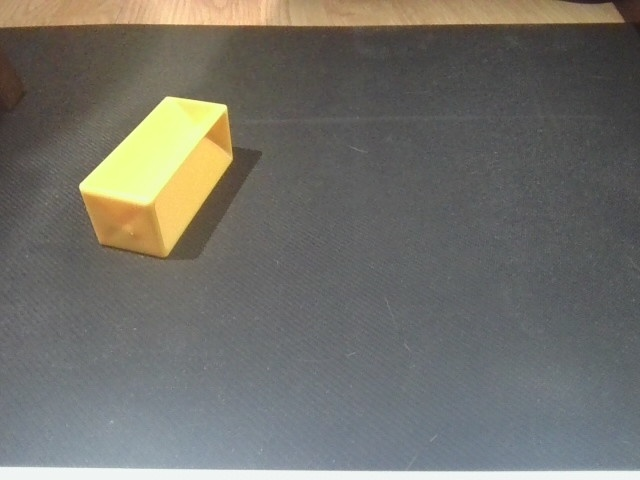YellowSample: (75, 92, 238, 260)
